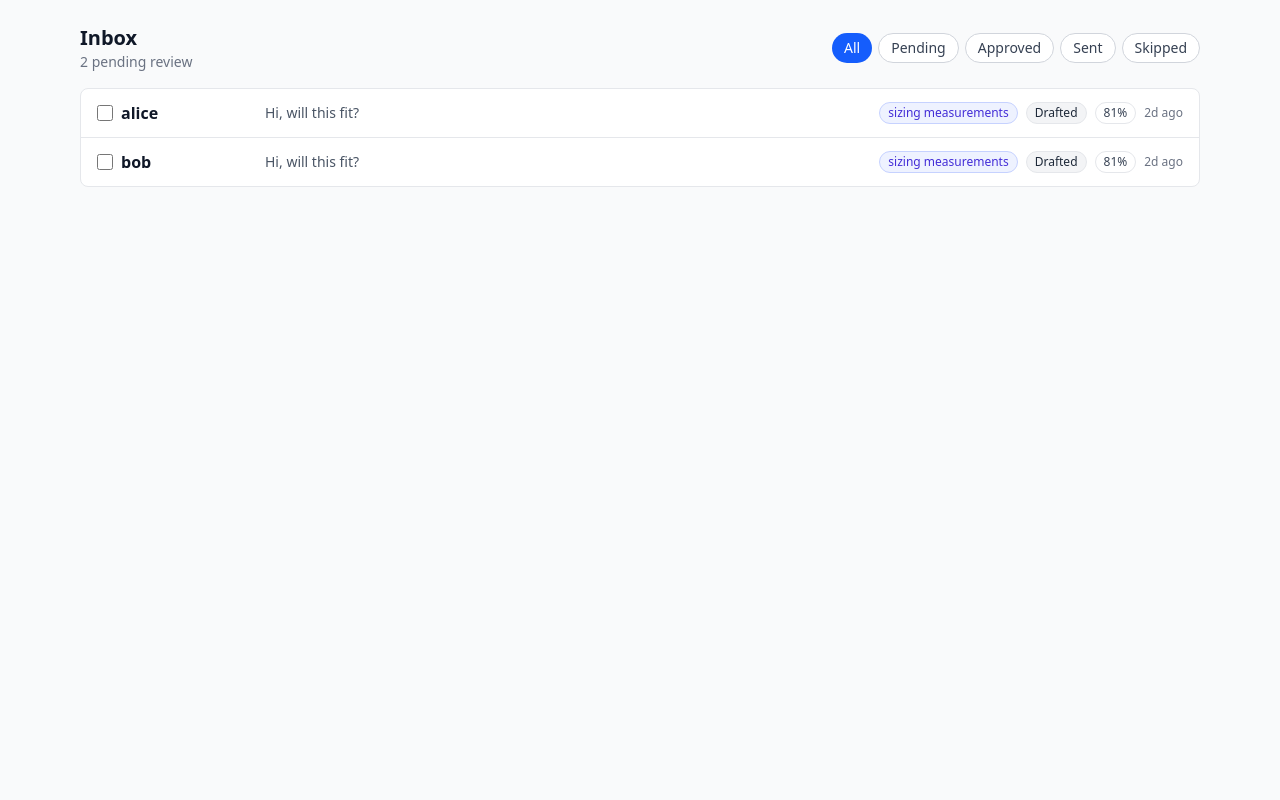
Test: InboxPage › batch-approve-by-category › approves all selected sequentially with separate Idempotency-Keys, then clears selection
Step 1. Click the checkbox with test id "select-m1" → (105, 113), box [97,105,113,121]
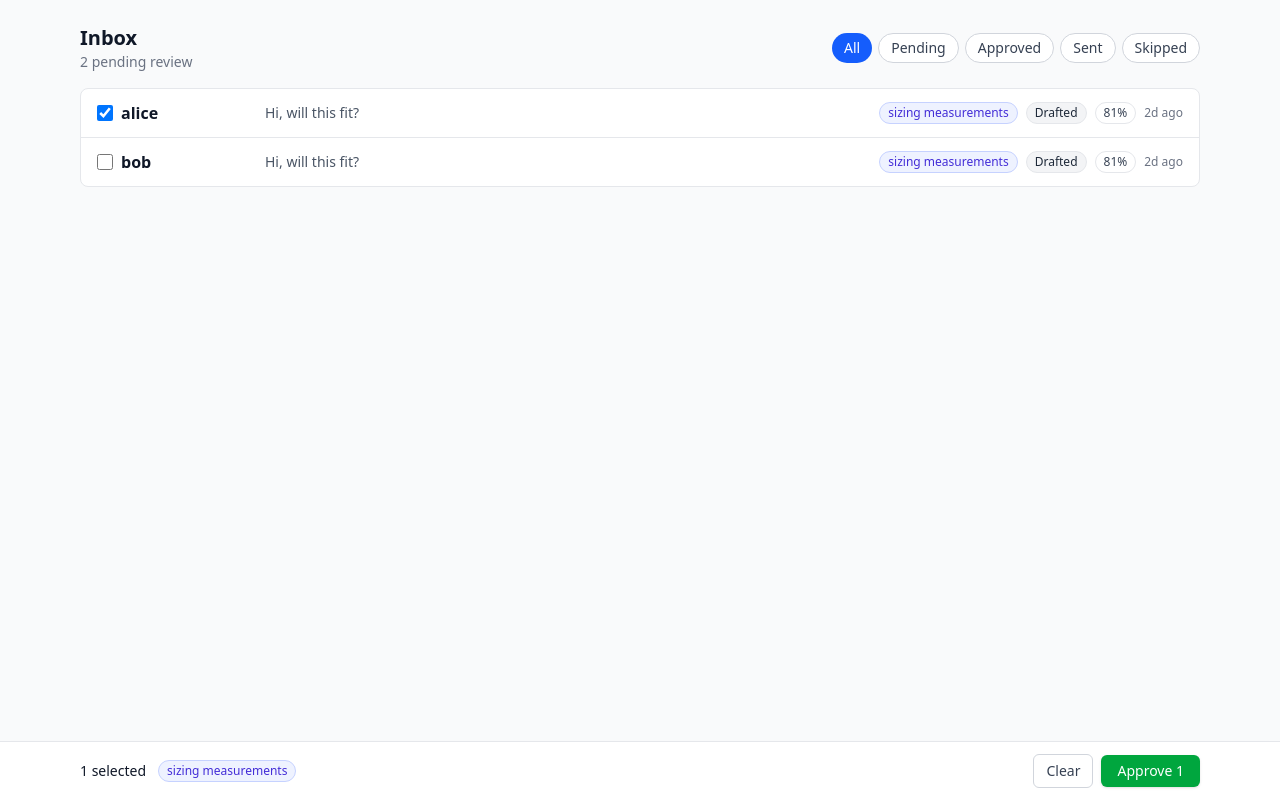
Step 2. Click the checkbox with test id "select-m2" → (105, 162), box [97,154,113,170]
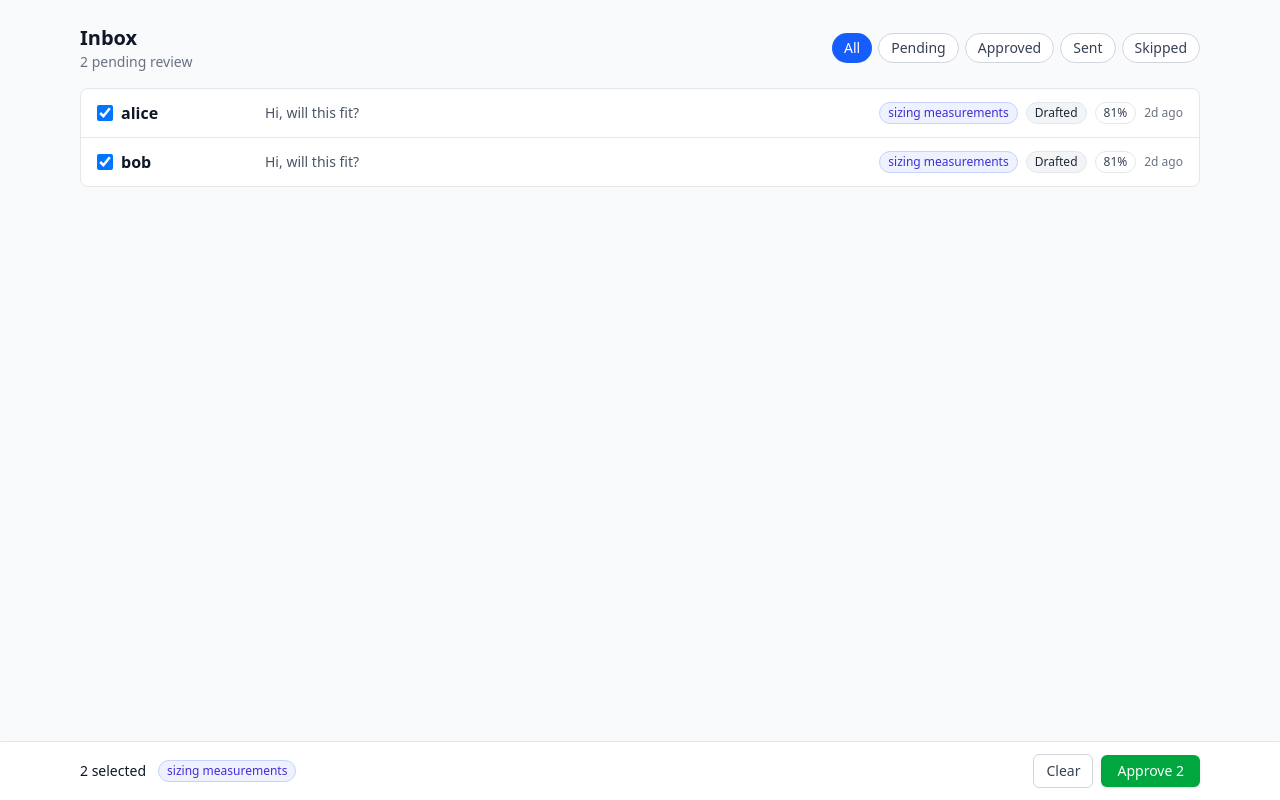
Step 3. Click the button with test id "batch-approve" → (1151, 771), box [1102,755,1200,787]
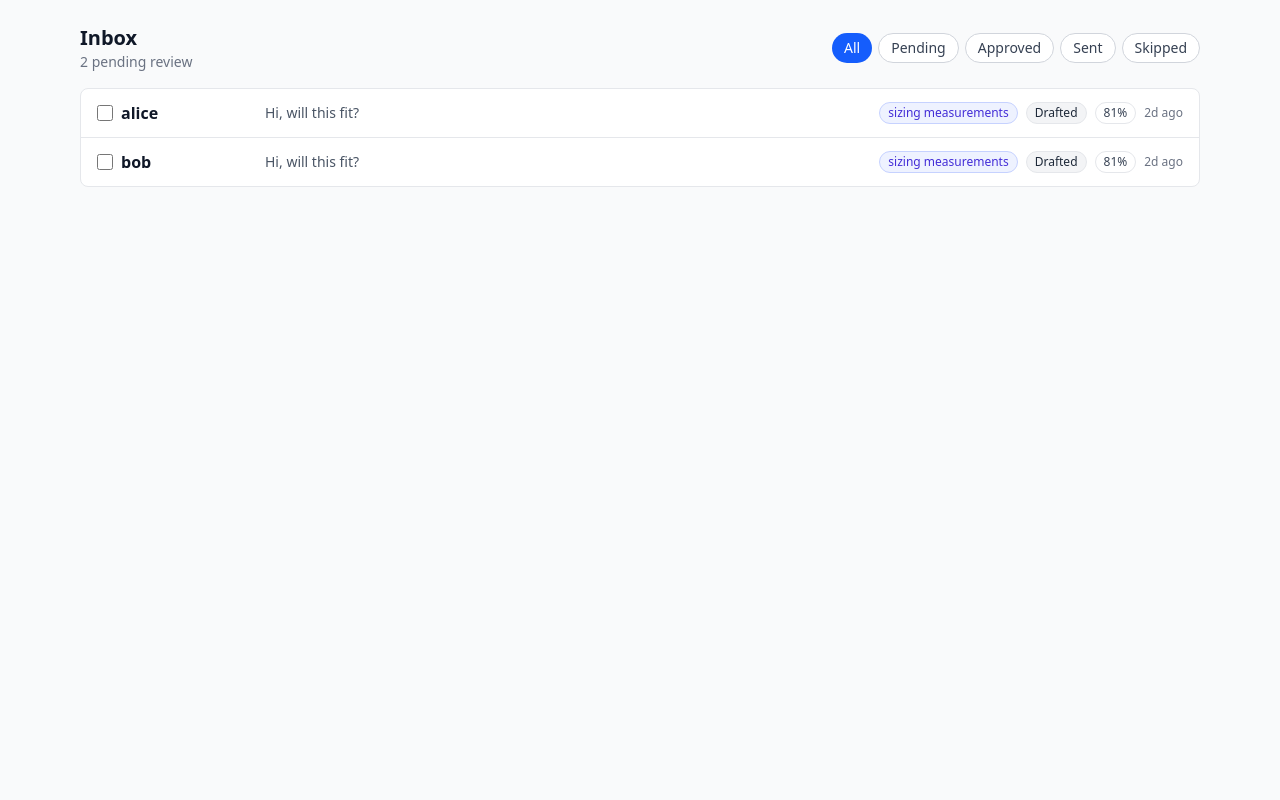
Expected: the element with test id "batch-approve-bar" is gone
